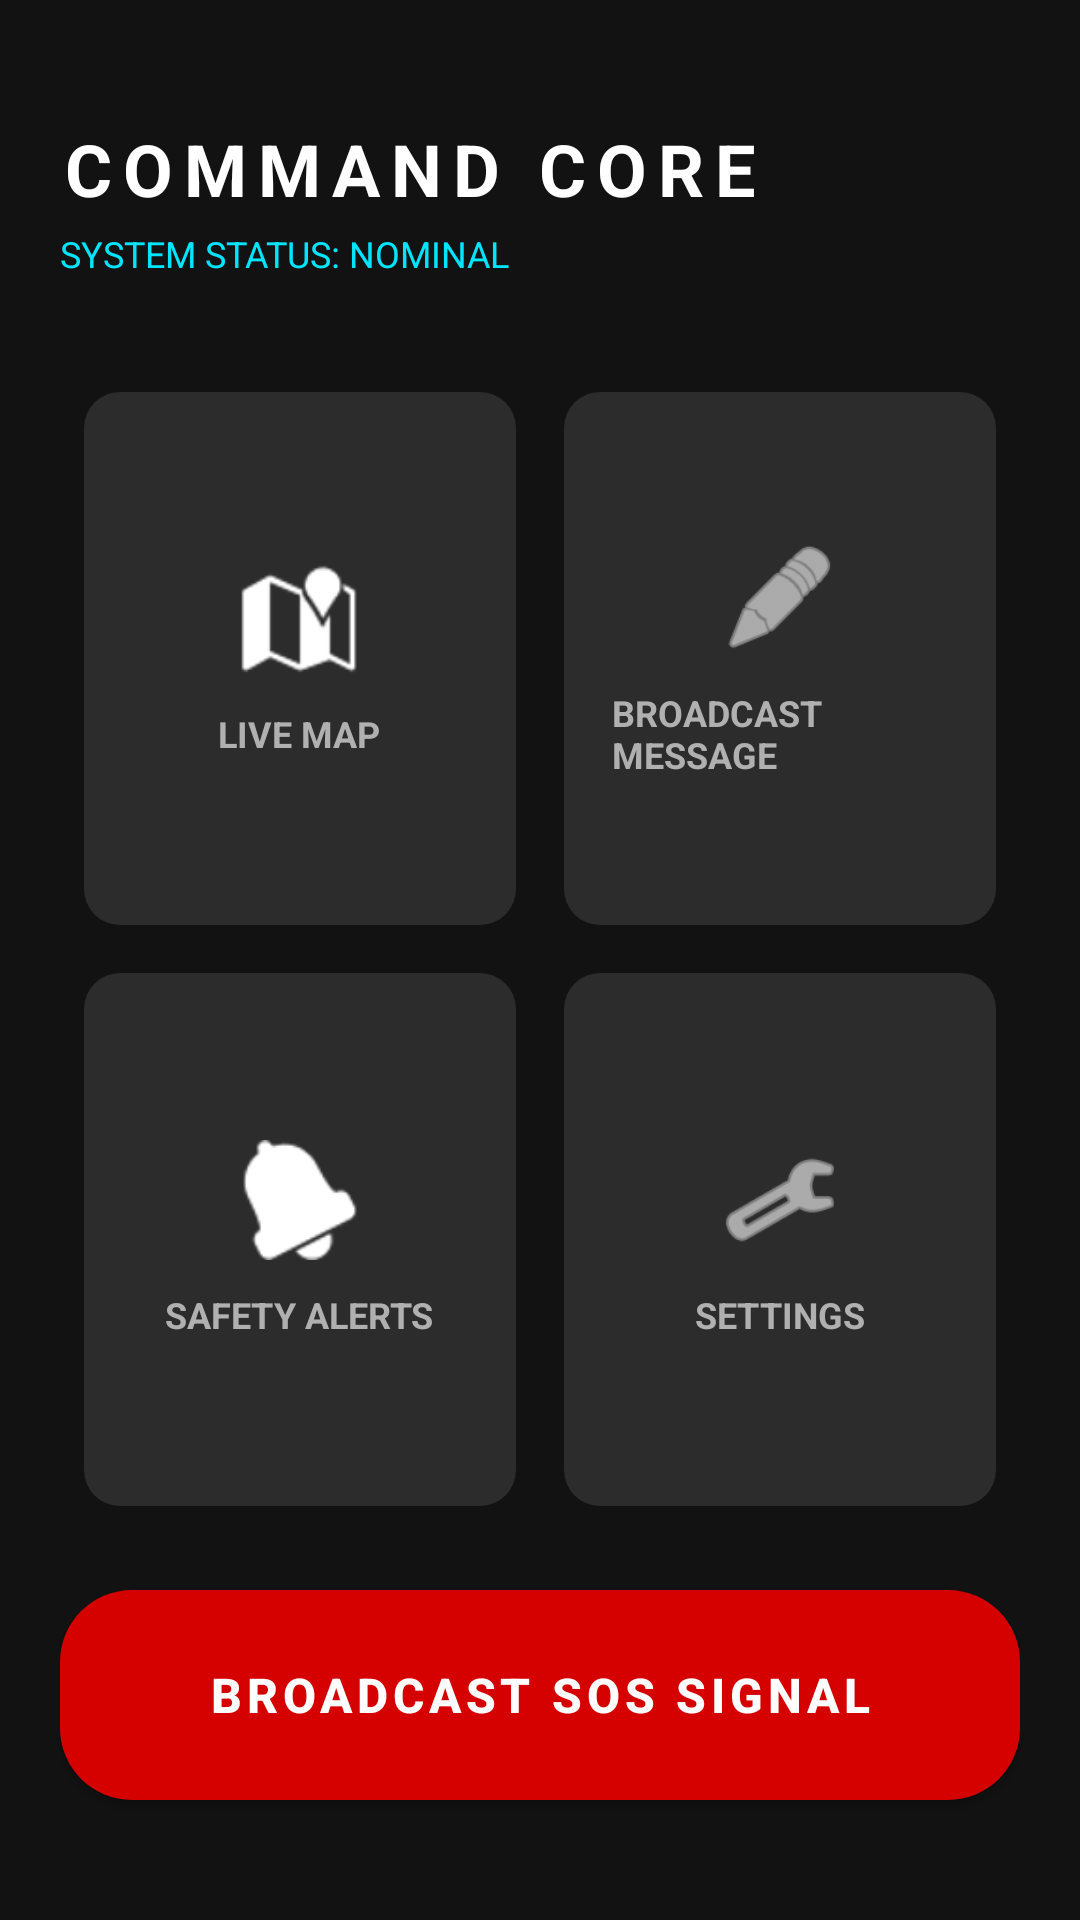

Where icons sit on this 1080px×1920px app screen, as (x1=x1, y1=y1, x2=x2, y2=y2):
edit: (x1=729, y1=546, x2=830, y2=648)
popup reminder: (x1=243, y1=1140, x2=357, y2=1260)
